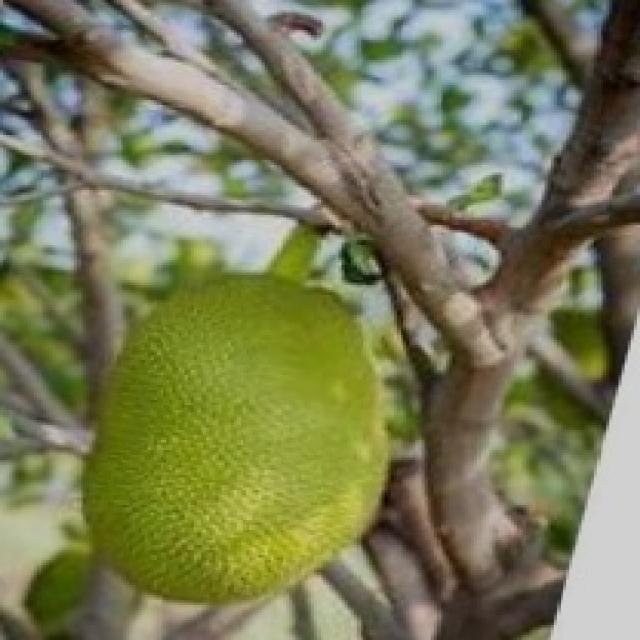Fruit: (43, 248, 425, 632)
